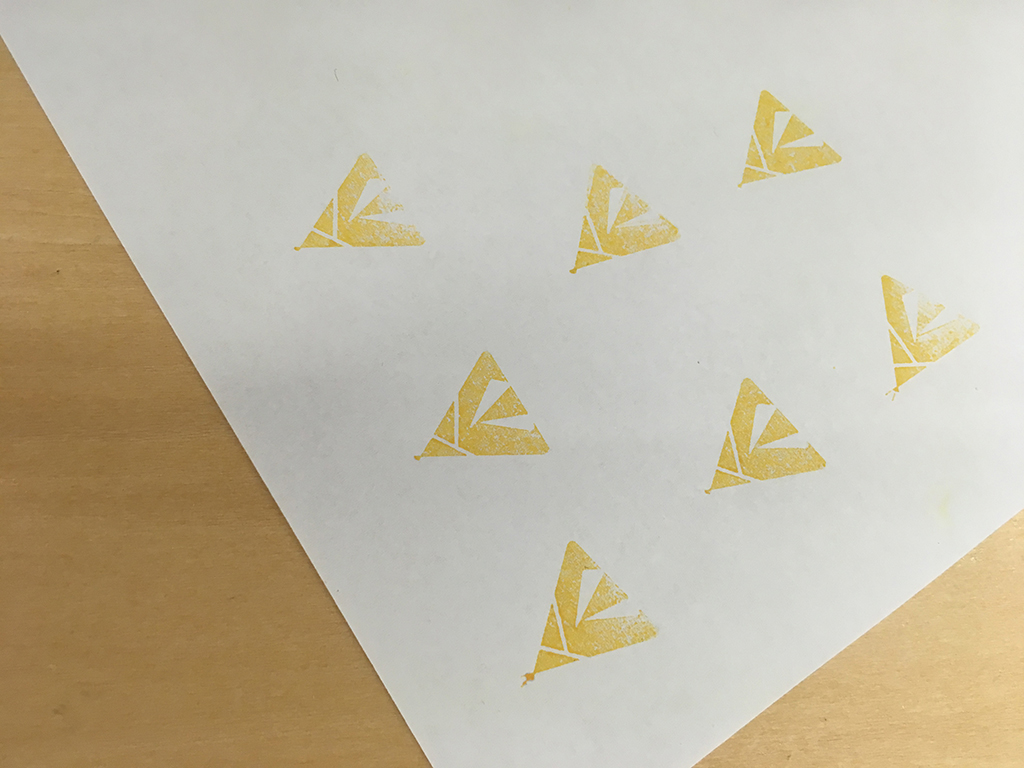tent: (508, 530, 676, 692), (407, 339, 560, 479), (699, 369, 839, 504), (283, 142, 440, 262), (869, 262, 990, 409), (561, 156, 691, 284), (726, 80, 855, 201)
